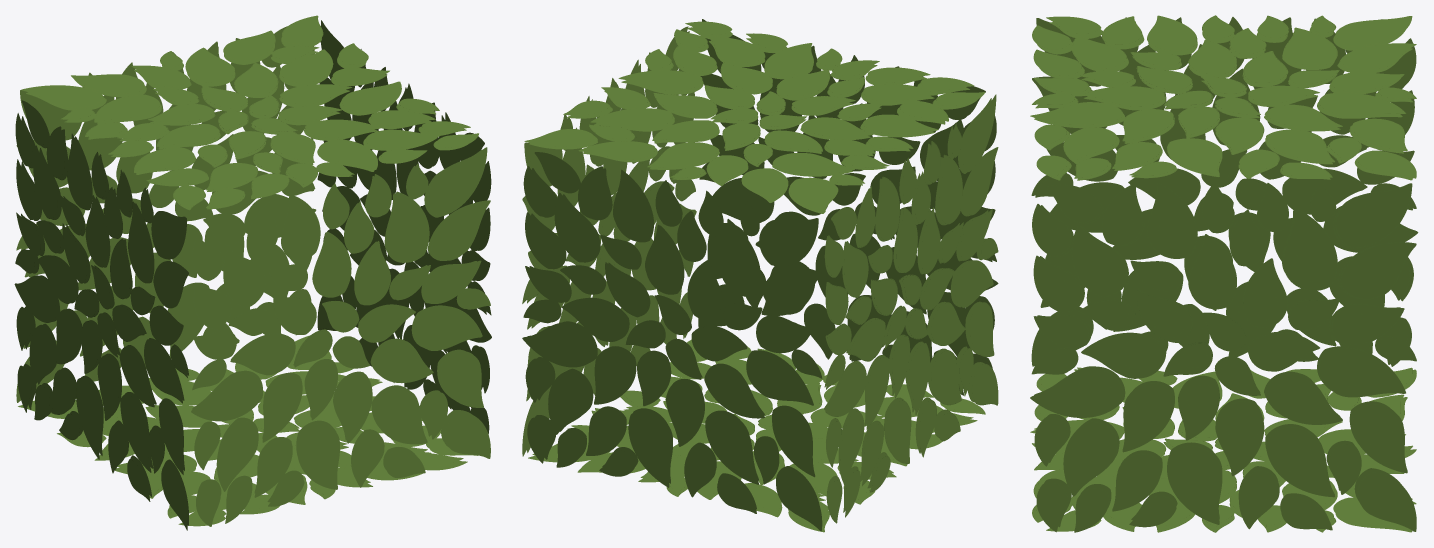
File: SM_LeafTree.fbx
The picture shows the model from 3 angles, left to right: view 1: azimuth 30°, elevation 25°; view 2: azimuth 150°, elevation 25°; view 3: azimuth 270°, elevation 25°; orthographic projection. The views are drawn at different scales.
Visible parts, largest first — view 1: Cube; view 2: Cube; view 3: Cube.
Boxes of the visible parts, x1,y1,x2,y2 form: Cube: [14, 15, 491, 530]; Cube: [522, 19, 998, 532]; Cube: [1030, 15, 1418, 532].
Size of the model in its own units: 200 by 200 by 200.
